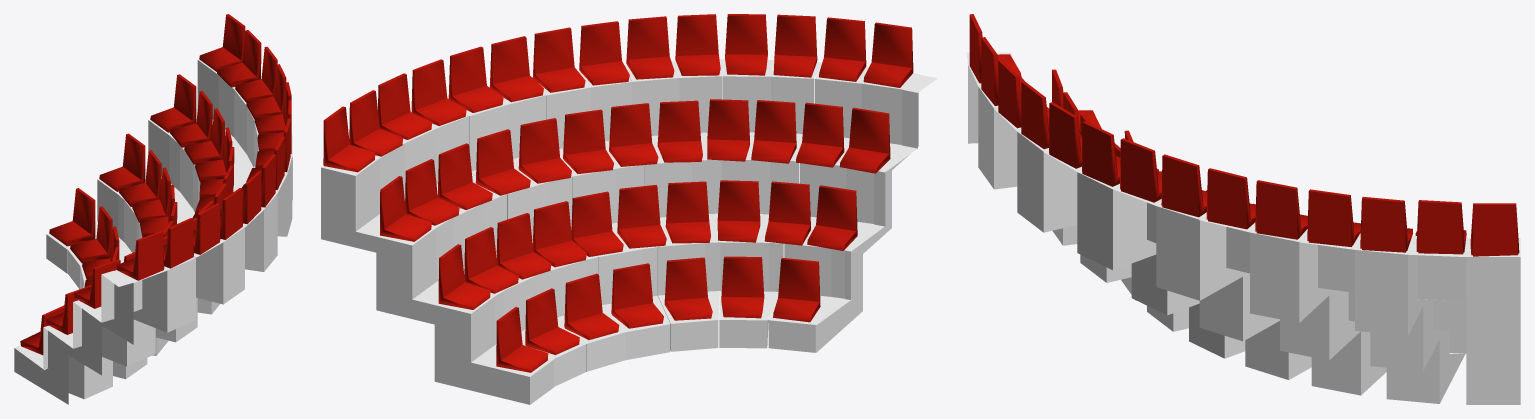
File: seat-round.fbx
The picture shows the model from 3 angles, left to right: view 1: azimuth 30°, elevation 25°; view 2: azimuth 150°, elevation 25°; view 3: azimuth 270°, elevation 25°; orthographic projection. The views are drawn at different scales.
Visible parts, largest first — view 1: Ground, seats; view 2: seats, Ground; view 3: Ground, seats.
Part boxes in pixels (x1,y1,x2,y2): Ground: [14, 59, 292, 404]; seats: [20, 14, 291, 355]; seats: [323, 14, 913, 372]; Ground: [321, 59, 937, 404]; Ground: [966, 52, 1520, 404]; seats: [969, 14, 1519, 256].
Size of the model in its own units: 921 by 551 by 1055.
